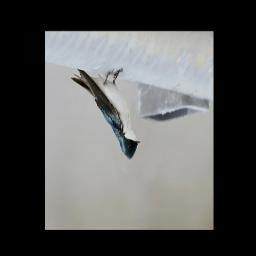Swallow: (70, 64, 141, 162)
